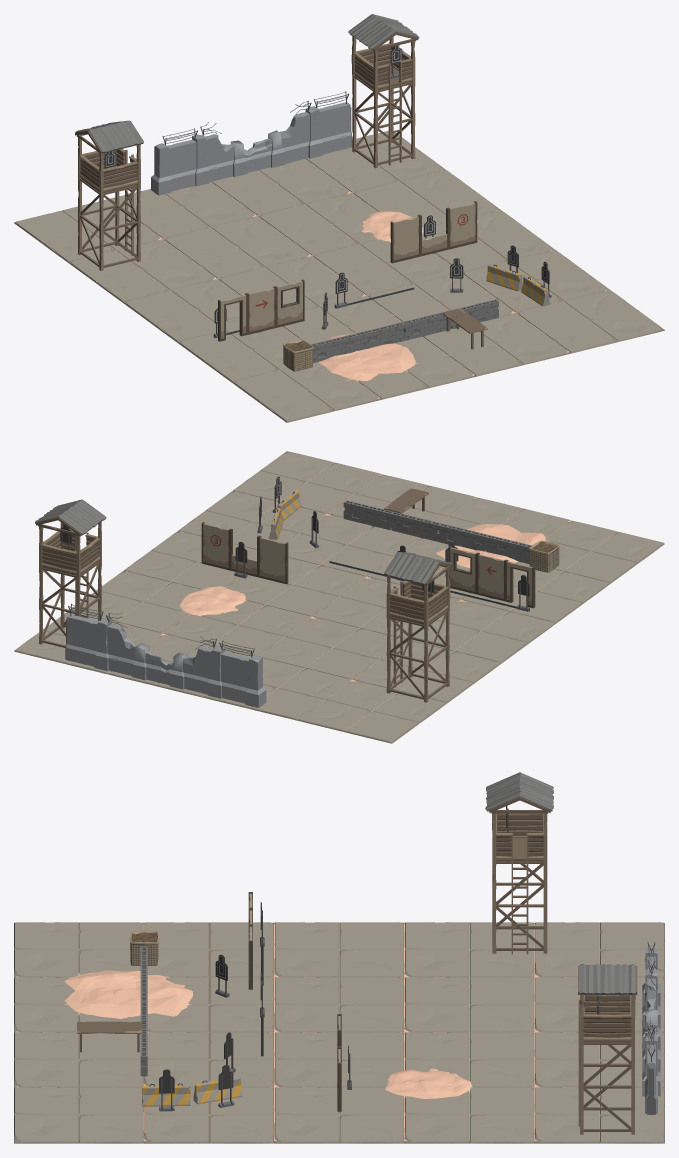
The model's file is shootingRange.glb.
The picture shows the model from 3 angles, top to bottom: view 1: azimuth 30°, elevation 25°; view 2: azimuth 150°, elevation 25°; view 3: azimuth 270°, elevation 25°; orthographic projection. The views are drawn at different scales.
Parts seen in each view (by area): view 1: SM_Prop_GuardTower_01.002, SM_Prop_GuardTower_01.001, SM_Env_Concrete_Base_01.010, SM_Env_Concrete_Base_01.007, SM_Env_Concrete_Base_01.014, SM_Env_Concrete_Base_01.004, SM_Env_Concrete_Base_01.016, SM_Env_Concrete_Base_01.008, SM_Env_Concrete_Base_01.017, SM_Env_Concrete_Base_01.018, SM_Env_Concrete_Base_01.015, SM_Env_Concrete_Base_01.005 (+34 smaller); view 2: SM_Prop_GuardTower_01.001, SM_Prop_GuardTower_01.002, SM_Env_Concrete_Base_01.020, SM_Env_Concrete_Base_01.007, SM_Env_Concrete_Base_01.010, SM_Env_Concrete_Base_01.015, SM_Env_Concrete_Base_01.001, SM_Env_Concrete_Base_01.008, SM_Env_Concrete_Base_01.014, SM_Env_Concrete_Base_01.012, SM_Env_Concrete_Base_01.005, SM_Env_Concrete_Base_01.016 (+35 smaller); view 3: SM_Prop_GuardTower_01.001, SM_Env_Concrete_Base_01.010, SM_Env_Concrete_Base_01.007, SM_Env_Concrete_Base_01.015, SM_Env_Concrete_Base_01.011, SM_Env_Concrete_Base_01.006, SM_Env_Concrete_Base_01.004, SM_Prop_GuardTower_01.002, SM_Env_Concrete_Base_01.012, SM_Env_Concrete_Base_01.005, SM_Env_Concrete_Base_01.016, SM_Env_Concrete_Base_01.014 (+18 smaller).
Part boxes in pixels (x1,y1,x2,y2): SM_Prop_GuardTower_01.002: (348, 14, 419, 168); SM_Prop_GuardTower_01.001: (75, 120, 143, 270); SM_Env_Concrete_Base_01.010: (516, 290, 664, 353); SM_Env_Concrete_Base_01.007: (163, 216, 308, 278); SM_Env_Concrete_Base_01.014: (232, 362, 381, 422); SM_Env_Concrete_Base_01.004: (423, 313, 570, 376); SM_Env_Concrete_Base_01.016: (68, 239, 214, 302); SM_Env_Concrete_Base_01.008: (258, 193, 377, 255); SM_Env_Concrete_Base_01.017: (110, 182, 254, 238); SM_Env_Concrete_Base_01.018: (212, 159, 348, 215); SM_Env_Concrete_Base_01.015: (123, 279, 239, 342); SM_Env_Concrete_Base_01.005: (313, 239, 450, 295); SM_Prop_GuardTower_01.001: (384, 552, 452, 702); SM_Prop_GuardTower_01.002: (35, 499, 106, 647); SM_Env_Concrete_Base_01.020: (297, 681, 446, 743); SM_Env_Concrete_Base_01.007: (258, 618, 404, 679); SM_Env_Concrete_Base_01.010: (233, 451, 380, 513); SM_Env_Concrete_Base_01.015: (412, 601, 555, 663); SM_Env_Concrete_Base_01.001: (288, 515, 419, 576); SM_Env_Concrete_Base_01.008: (164, 600, 311, 656); SM_Env_Concrete_Base_01.014: (545, 520, 664, 583); SM_Env_Concrete_Base_01.012: (71, 571, 200, 633); SM_Env_Concrete_Base_01.005: (226, 557, 365, 616); SM_Env_Concrete_Base_01.016: (353, 641, 500, 703); SM_Prop_GuardTower_01.001: (485, 772, 553, 954); SM_Env_Concrete_Base_01.010: (14, 1087, 144, 1143); SM_Env_Concrete_Base_01.007: (404, 977, 534, 1032); SM_Env_Concrete_Base_01.015: (274, 922, 404, 977); SM_Env_Concrete_Base_01.011: (274, 1087, 404, 1143); SM_Env_Concrete_Base_01.006: (274, 977, 404, 1032); SM_Env_Concrete_Base_01.004: (14, 1032, 143, 1087); SM_Prop_GuardTower_01.002: (578, 964, 637, 1134); SM_Env_Concrete_Base_01.012: (404, 1087, 534, 1143); SM_Env_Concrete_Base_01.005: (274, 1032, 404, 1087); SM_Env_Concrete_Base_01.016: (404, 922, 534, 977); SM_Env_Concrete_Base_01.014: (14, 922, 144, 977).
Size of the model in its own units: 20 by 6.99 by 25.
1 material, 1 textured.
